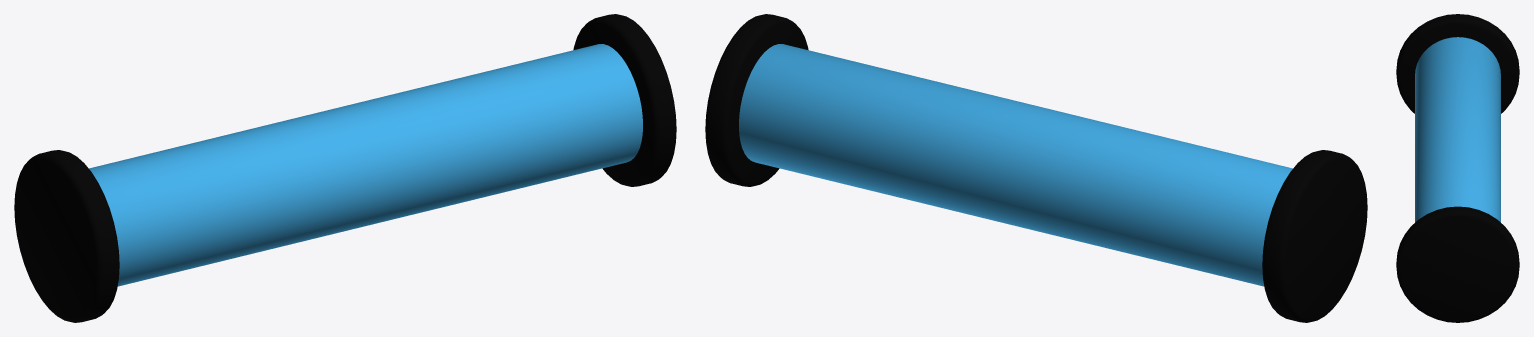
Rendered from pipe-straight.glb.
The picture shows the model from 3 angles, left to right: view 1: azimuth 30°, elevation 25°; view 2: azimuth 150°, elevation 25°; view 3: azimuth 270°, elevation 25°; orthographic projection. The views are drawn at different scales.
Visible parts, largest first — view 1: straight chilled water pipe body, straight pipe left dark gasket, straight pipe right dark gasket; view 2: straight chilled water pipe body, straight pipe left dark gasket, straight pipe right dark gasket; view 3: straight chilled water pipe body, straight pipe right dark gasket, straight pipe left dark gasket.
Boxes of the visible parts, x1,y1,x2,y2 form: straight chilled water pipe body: (89, 44, 642, 286); straight pipe left dark gasket: (14, 150, 119, 322); straight pipe right dark gasket: (573, 14, 676, 186); straight chilled water pipe body: (739, 44, 1292, 286); straight pipe left dark gasket: (1262, 150, 1367, 322); straight pipe right dark gasket: (705, 14, 808, 186); straight chilled water pipe body: (1415, 37, 1500, 222); straight pipe right dark gasket: (1396, 206, 1519, 322); straight pipe left dark gasket: (1396, 14, 1519, 113).
Bounding box in the file's own units: 1.54 × 0.4 × 0.4.
